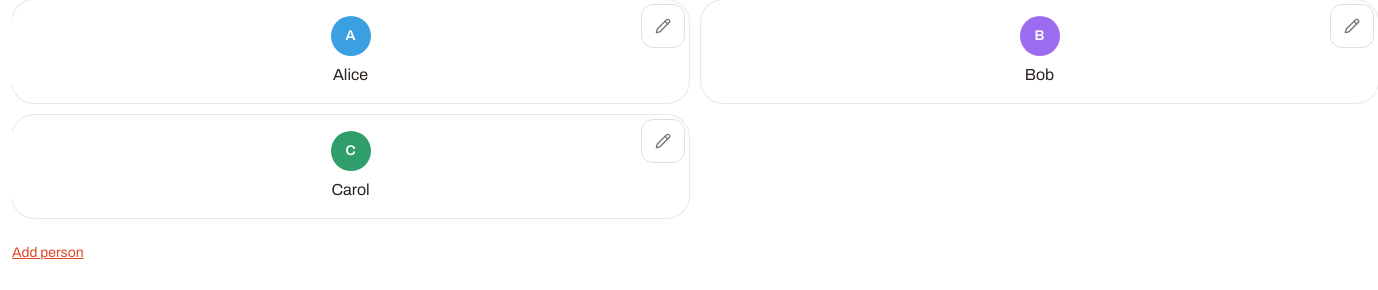
Test: PersonSlotPicker › Test 12 (D-05): tapping the rename button reveals inline input pre-filled with person name
Click the button named "Rename Alice" at x=663, y=26, box [641,4,685,48]
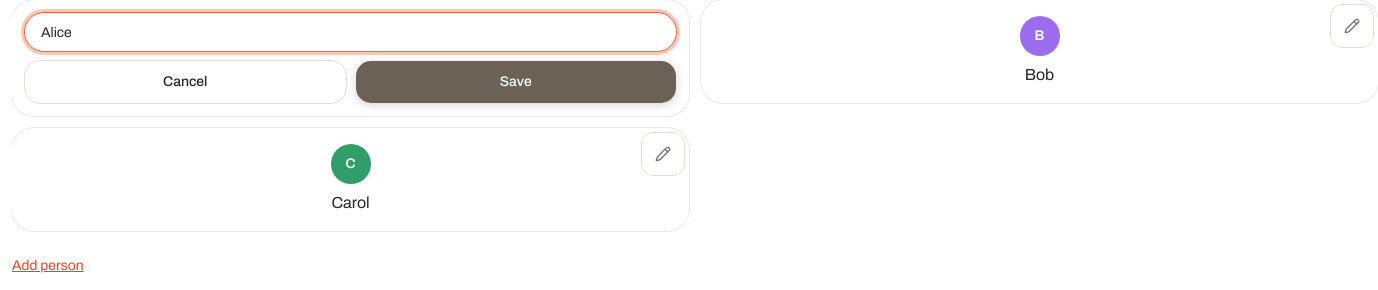
Now the field with placeholder "Name" holds "Alice", box [24,12,677,52]
Now the button "Save" is shown, box [354,60,677,104]
Now the button "Cancel" is shown, box [24,60,346,104]
